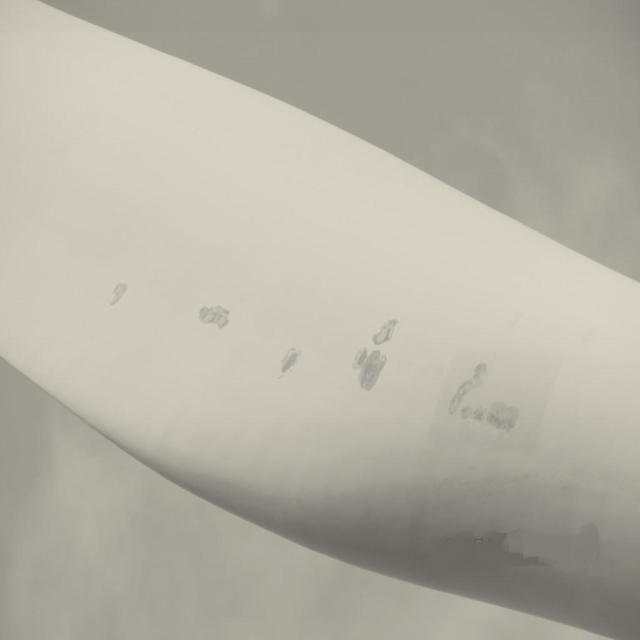corrosion: (196, 300, 232, 329)
surface_peeling: (446, 364, 524, 434), (350, 316, 396, 391), (276, 346, 302, 380), (104, 280, 130, 304)
